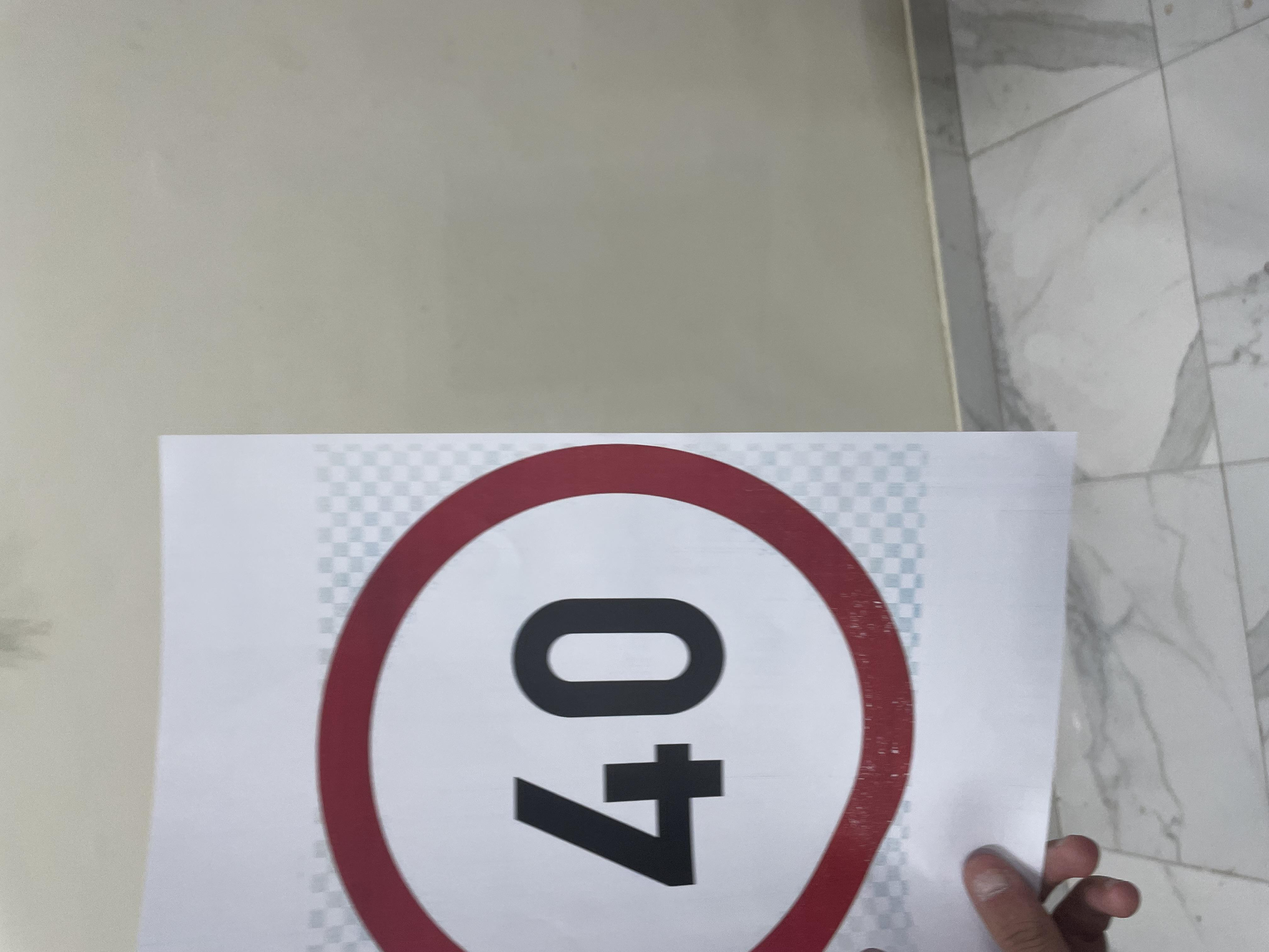40-Speed: (9, 220, 677, 687)
